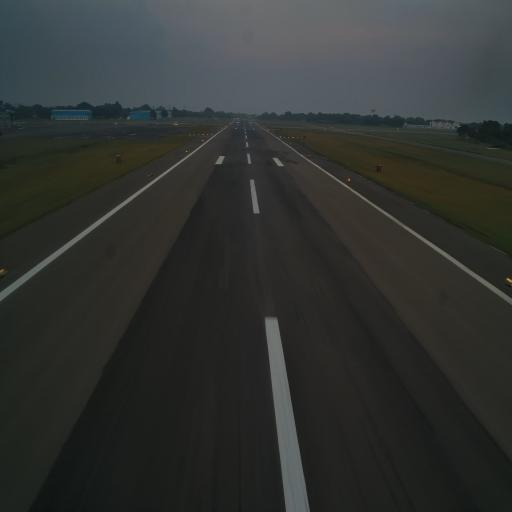off: (149, 172, 154, 178)
on: (504, 270, 512, 290), (0, 260, 7, 280), (347, 176, 351, 182), (307, 153, 310, 159), (186, 148, 188, 154)
